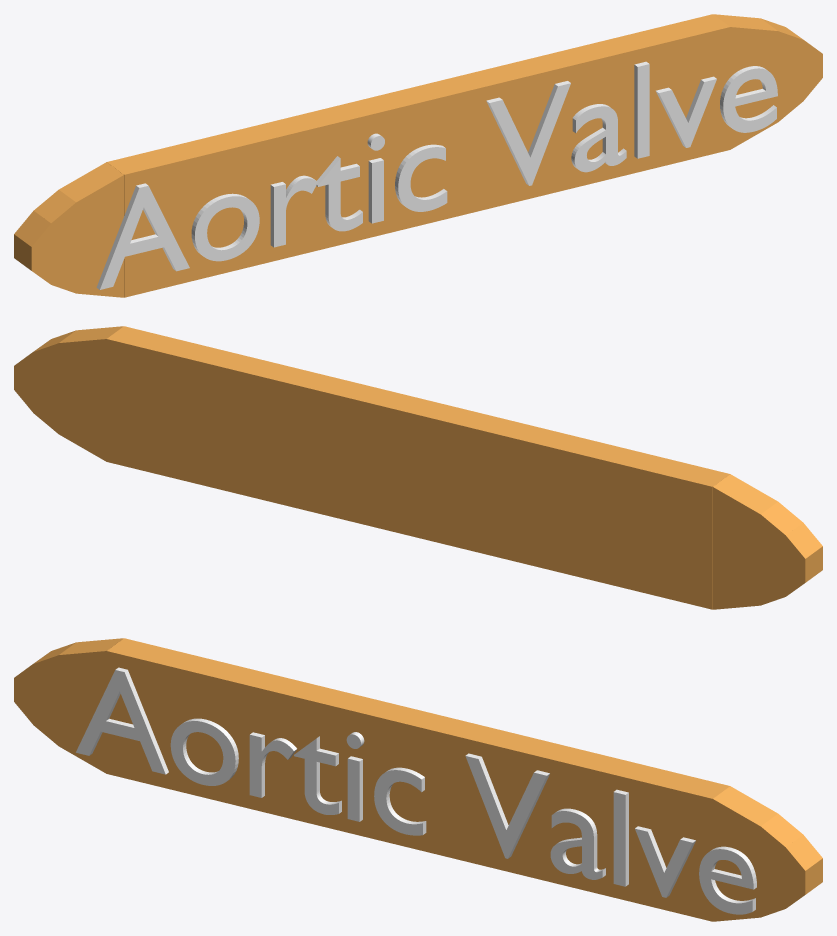
File: txtAorticValve.fbx
3 renders of one model, top to bottom at view 1: azimuth 30°, elevation 25°; view 2: azimuth 150°, elevation 25°; view 3: azimuth 330°, elevation 25°, orthographic.
Parts seen in each view (by area): view 1: TagContainer.045, Text.046; view 2: TagContainer.045; view 3: TagContainer.045, Text.046.
Part boxes in pixels (x1,y1,x2,y2): TagContainer.045: (14, 14, 822, 297); Text.046: (96, 61, 777, 289); TagContainer.045: (14, 326, 822, 609); TagContainer.045: (14, 638, 822, 921); Text.046: (76, 667, 756, 914).
Bounding box in the file's own units: 278 × 41.3 × 12.69.
